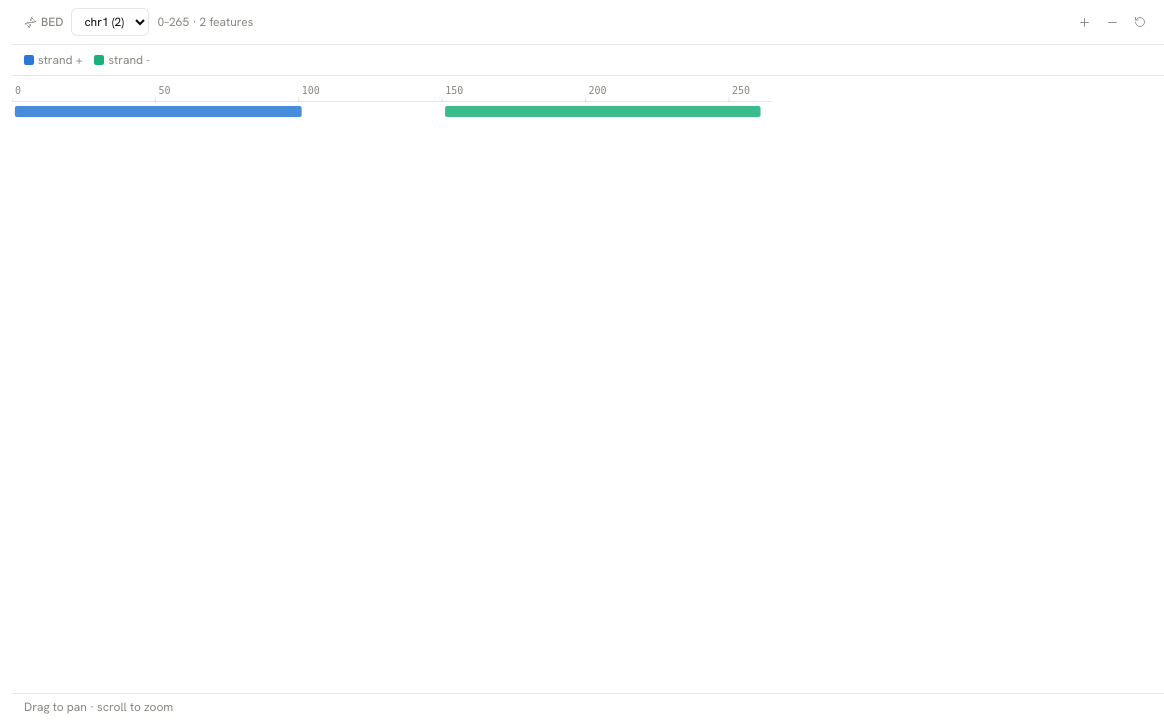
it: GenomeView › switches contigs
The width and height of the screenshot is (1164, 720).
Select "chr2 (1)" in the dropdown named "contig": [110, 22] box x1=71 y1=8 x2=149 y2=36
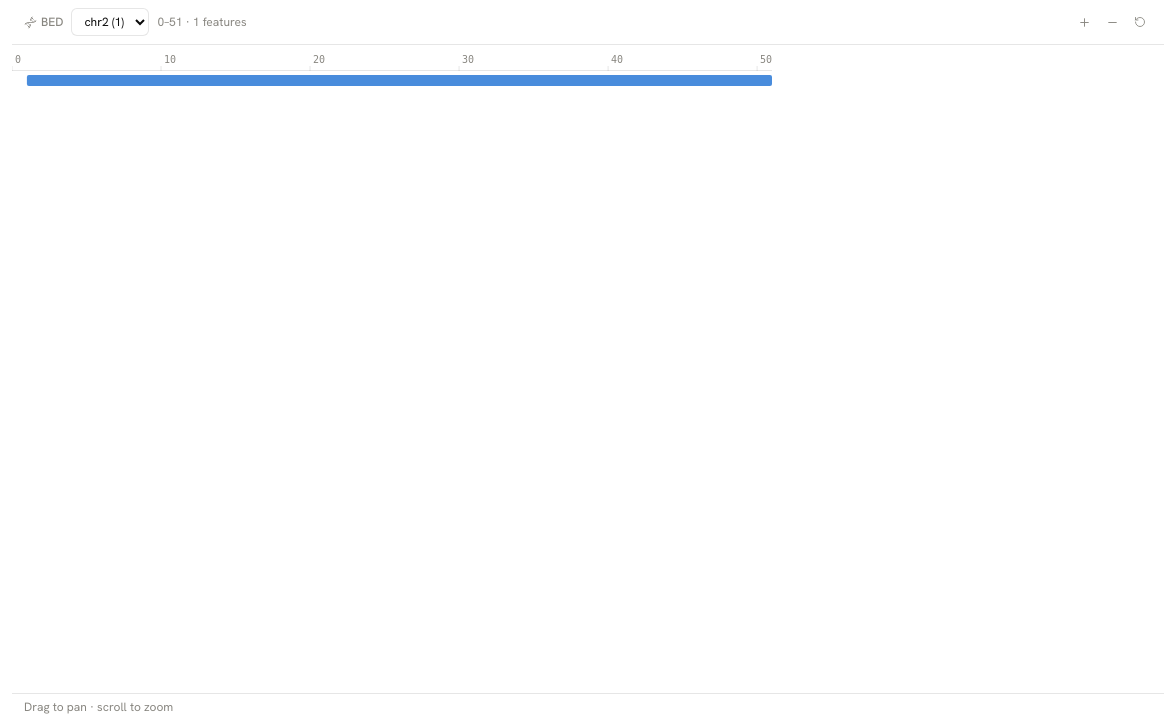
Check: the text "0–51 · 1 features" is shown, box x1=157 y1=14 x2=247 y2=30
